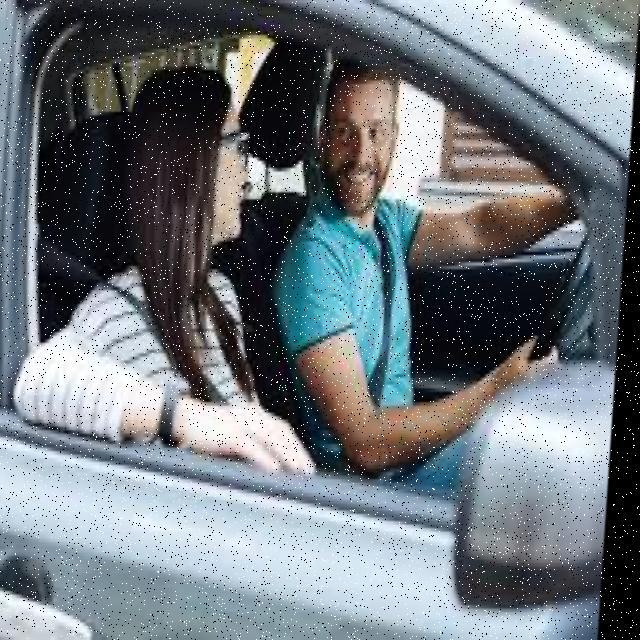seatbelt: (41, 232, 248, 426), (311, 196, 435, 422)
